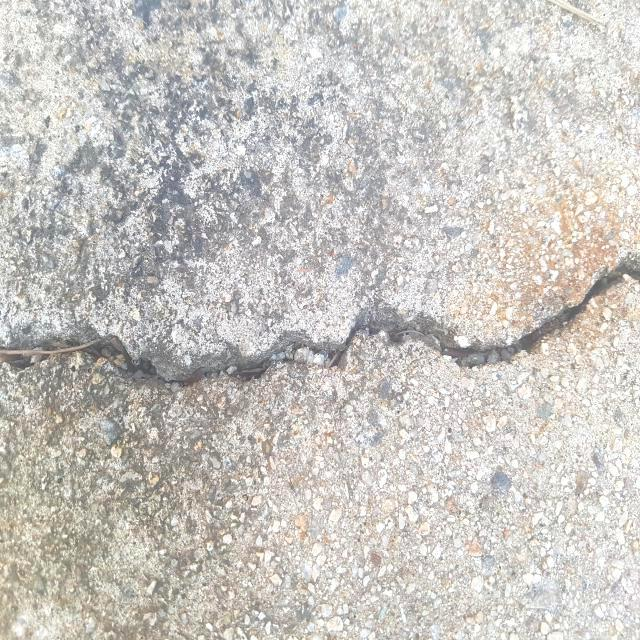SurfaceCrack: (1, 206, 640, 446)
